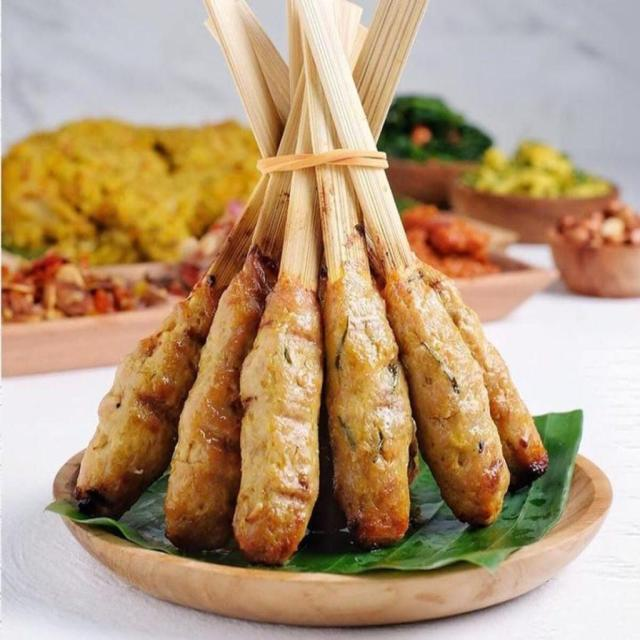Sate: (80, 9, 588, 561)
